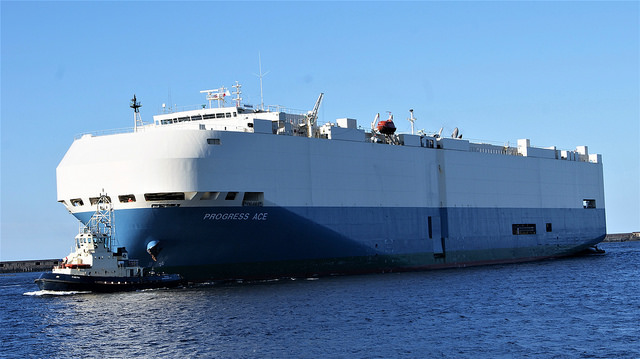PCC: (59, 87, 618, 266)
tug_boat: (36, 201, 159, 295)
